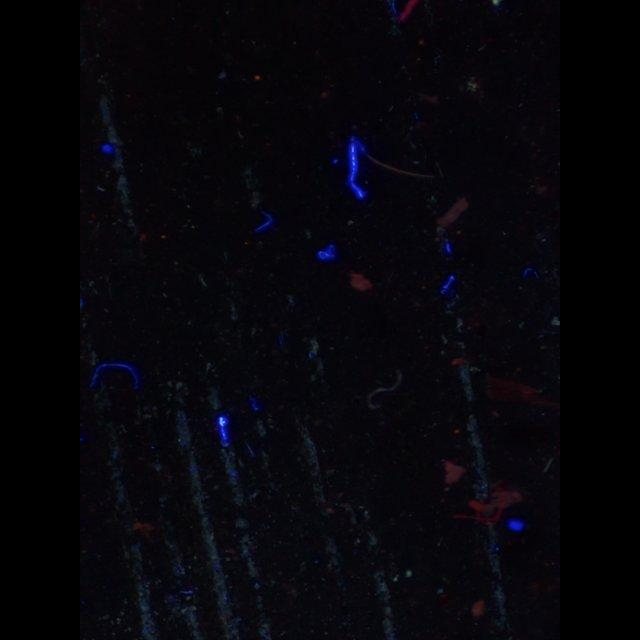Fibre: (365, 367, 403, 413)
